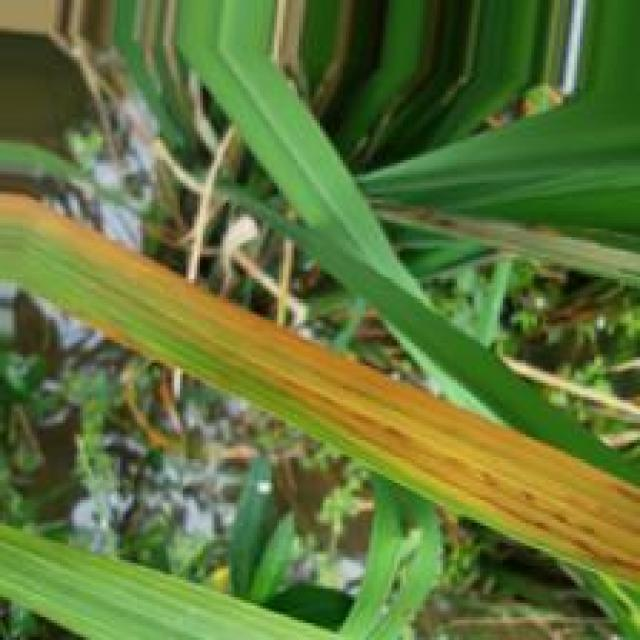Narrow_Brown_Leaf_Spot: (0, 190, 640, 588)
